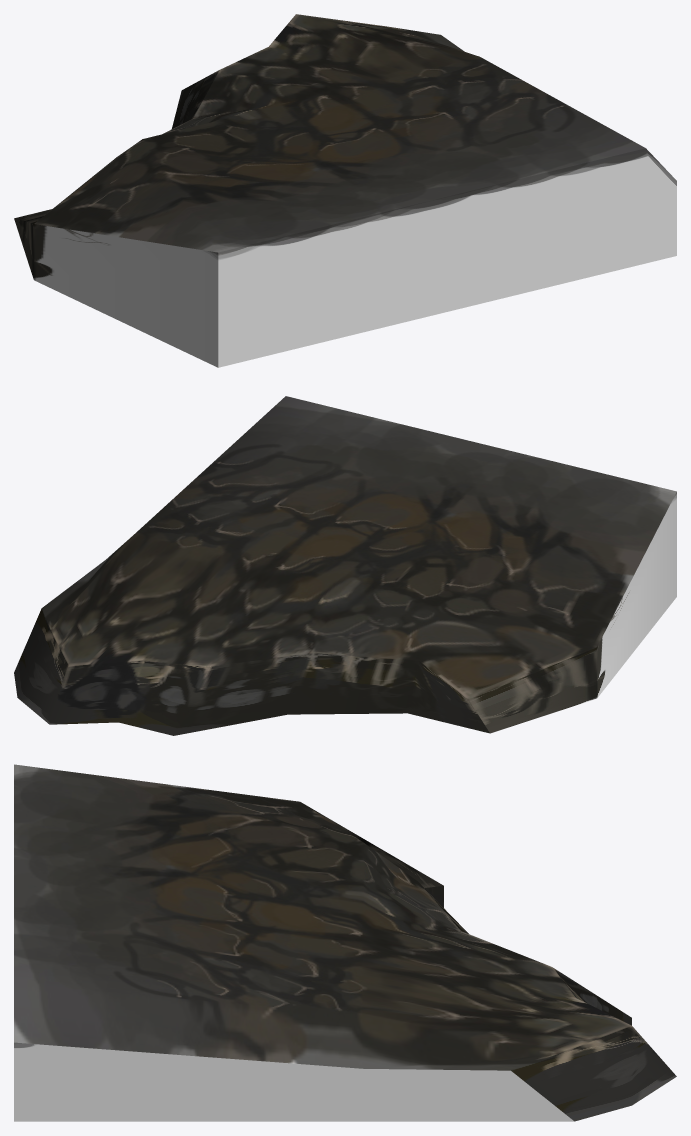
File: floor broken bottom.fbx
3 renders of one model, top to bottom at view 1: azimuth 30°, elevation 25°; view 2: azimuth 150°, elevation 25°; view 3: azimuth 270°, elevation 25°, orthographic. The views are drawn at different scales.
Visible parts, largest first — view 1: pCube1; view 2: pCube1; view 3: pCube1.
Part boxes in pixels (left/top/right/bottom): pCube1: left=14, top=14, right=676, bottom=367; pCube1: left=14, top=396, right=676, bottom=735; pCube1: left=14, top=764, right=676, bottom=1121.
Size of the model in its own units: 23.21 by 5.04 by 24.95.
